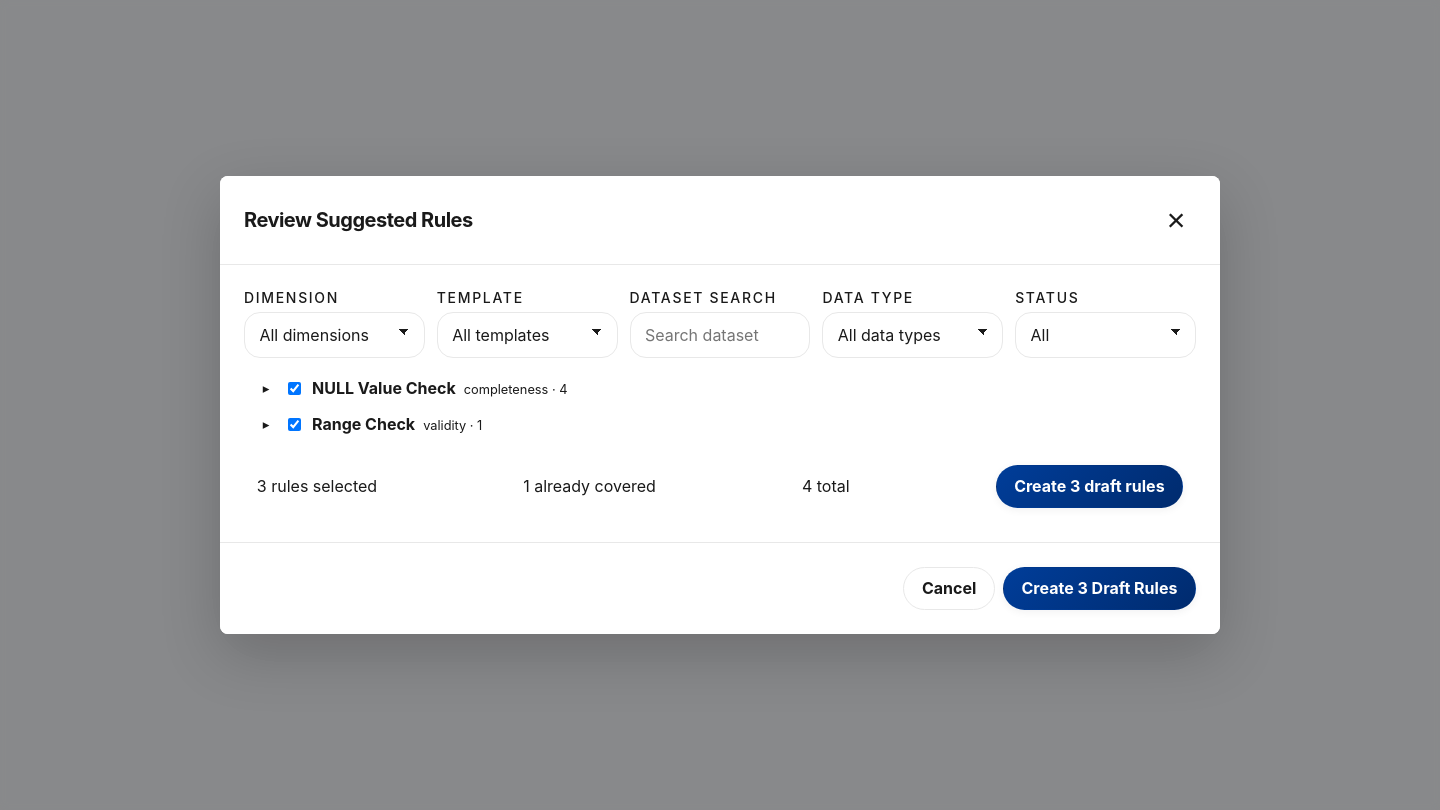
Test case: OnboardingRuleReview › expands template and dataset and object groups
Click the button named "Expand template group".
click(266, 388)  # box [256,381,276,396]
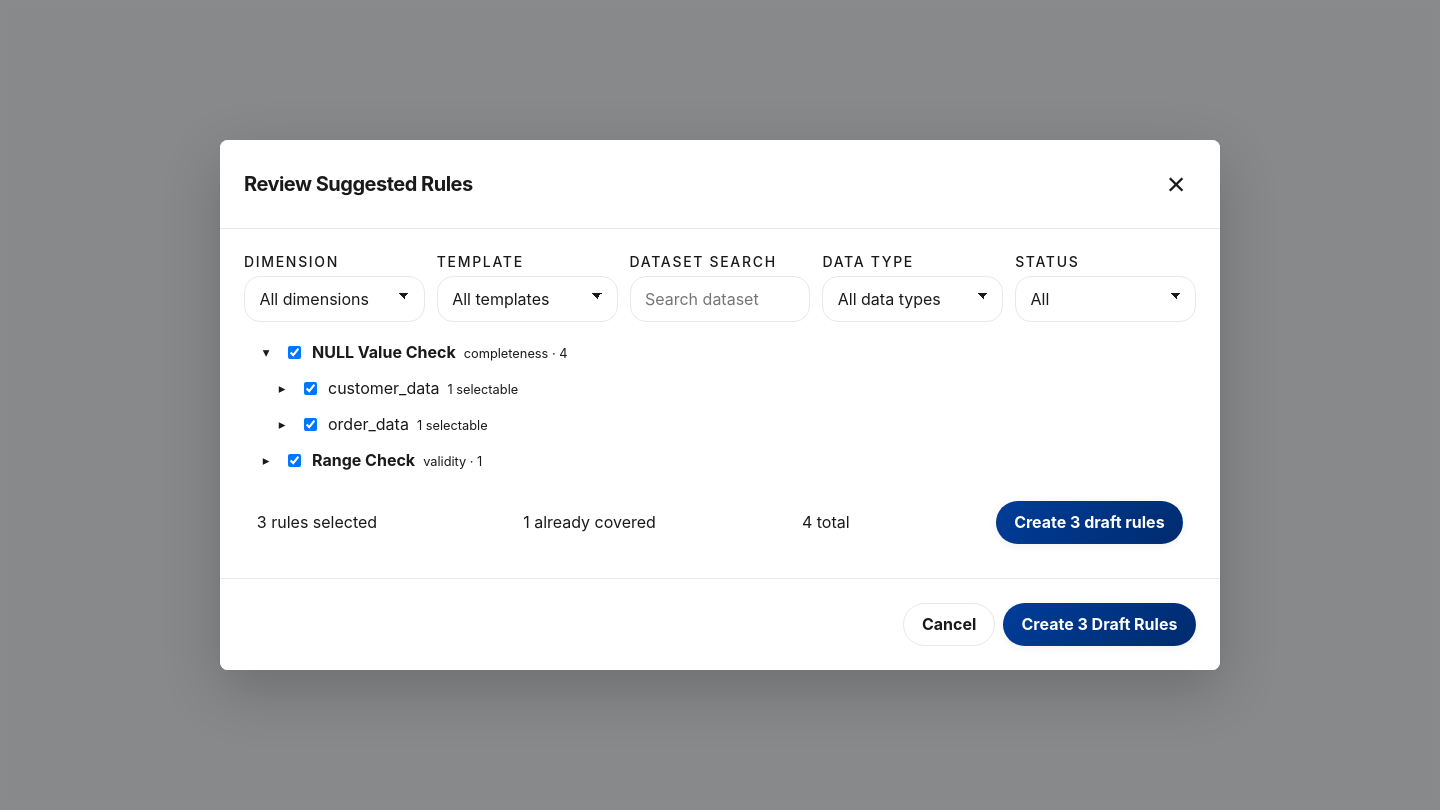
Click the button named "Expand dataset group".
click(282, 388)  # box [272,381,292,396]
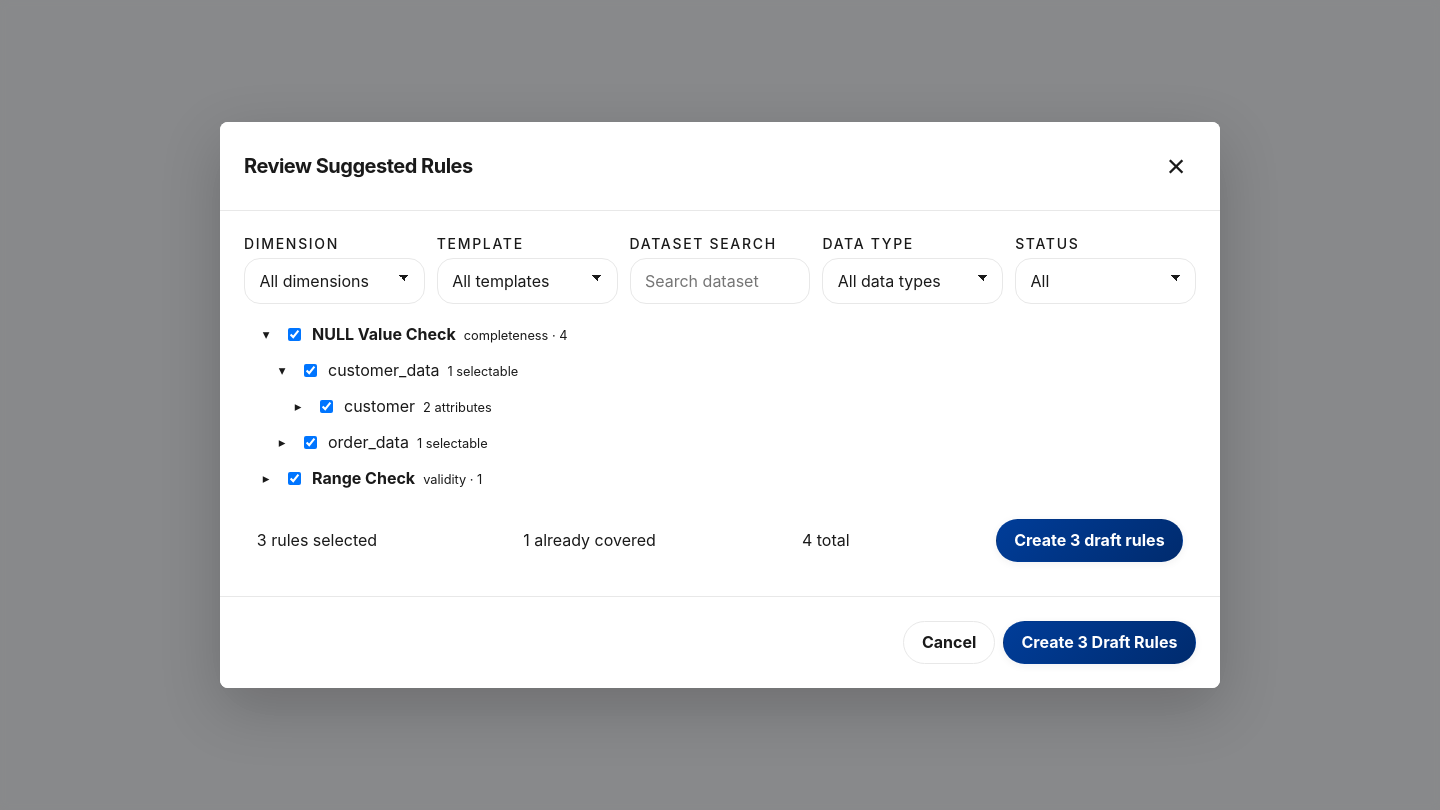
Click the button named "Expand object group".
click(298, 406)  # box [288,399,308,414]
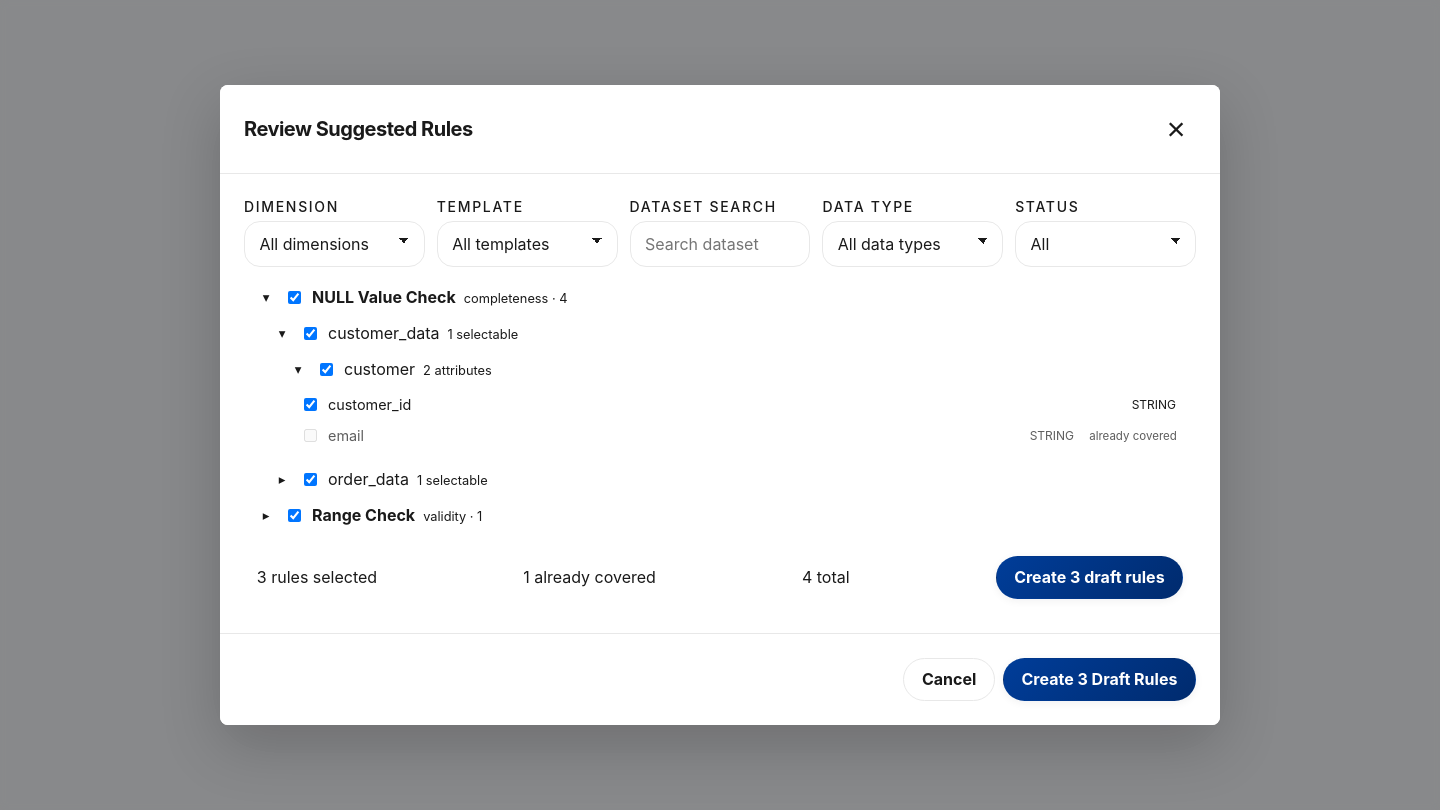
Expected: the text "customer_id" is shown, [328,396,411,413]
Expected: the text "email" is shown, [328,427,364,444]
